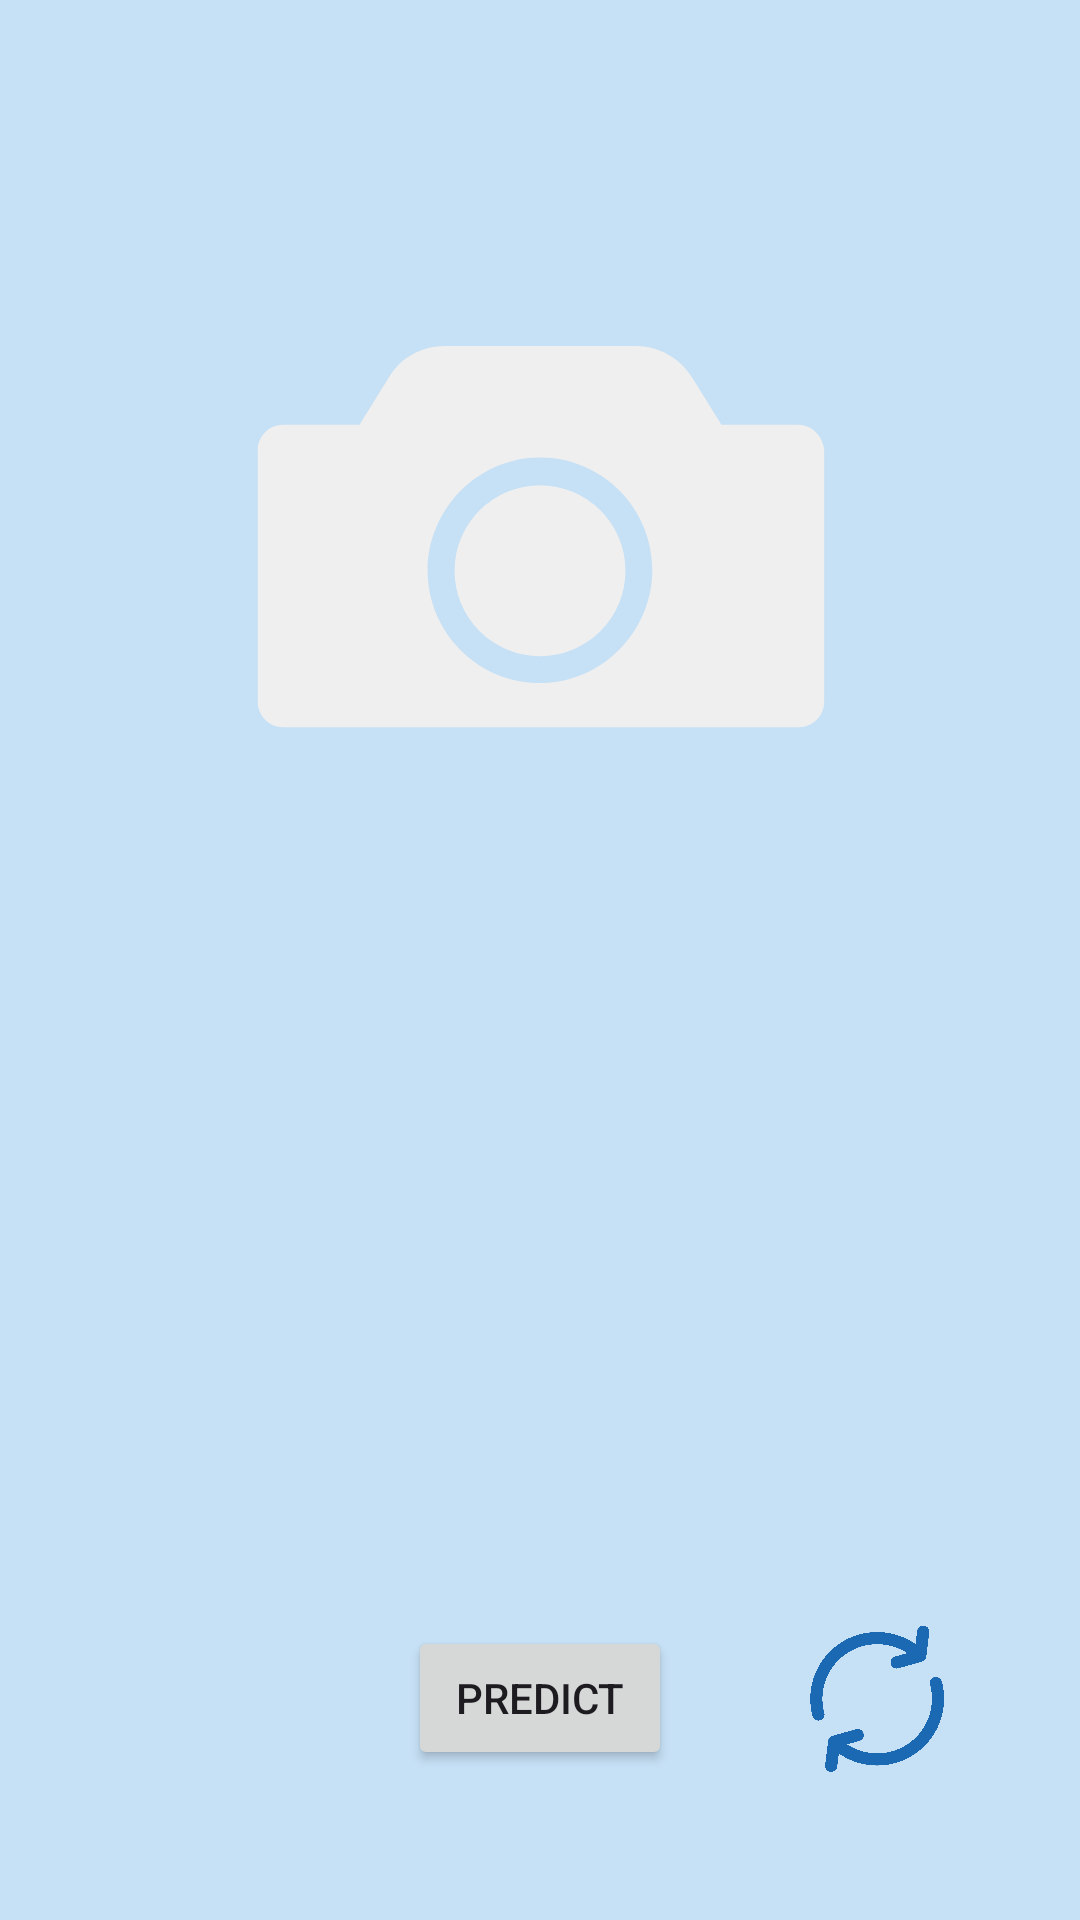

Icons on this 1080 x 1920 Android screen, each with the point to tap as (x=x, y=y):
picture retake: (x=877, y=1699)
